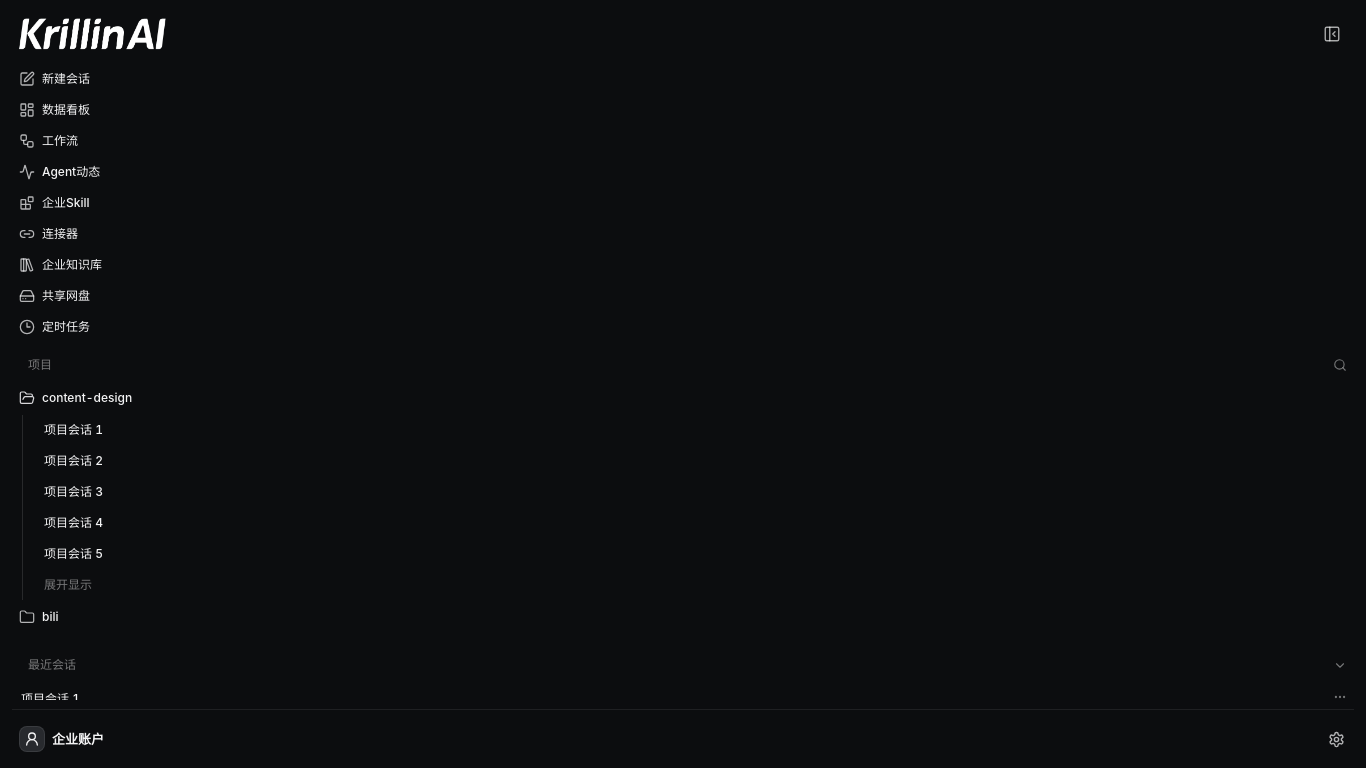
Test: ClaweeSidebar › shows at most five conversations per project until expanded
Expected: the number of links is 5, [44, 422, 103, 437]; [44, 453, 103, 468]; [44, 484, 103, 499]; [44, 515, 103, 530]; [44, 546, 103, 561]
Expected: the link "项目会话 5" is shown, [44, 546, 103, 561]
Click the button "展开显示". click: [68, 585]
box: [35, 570, 1354, 600]
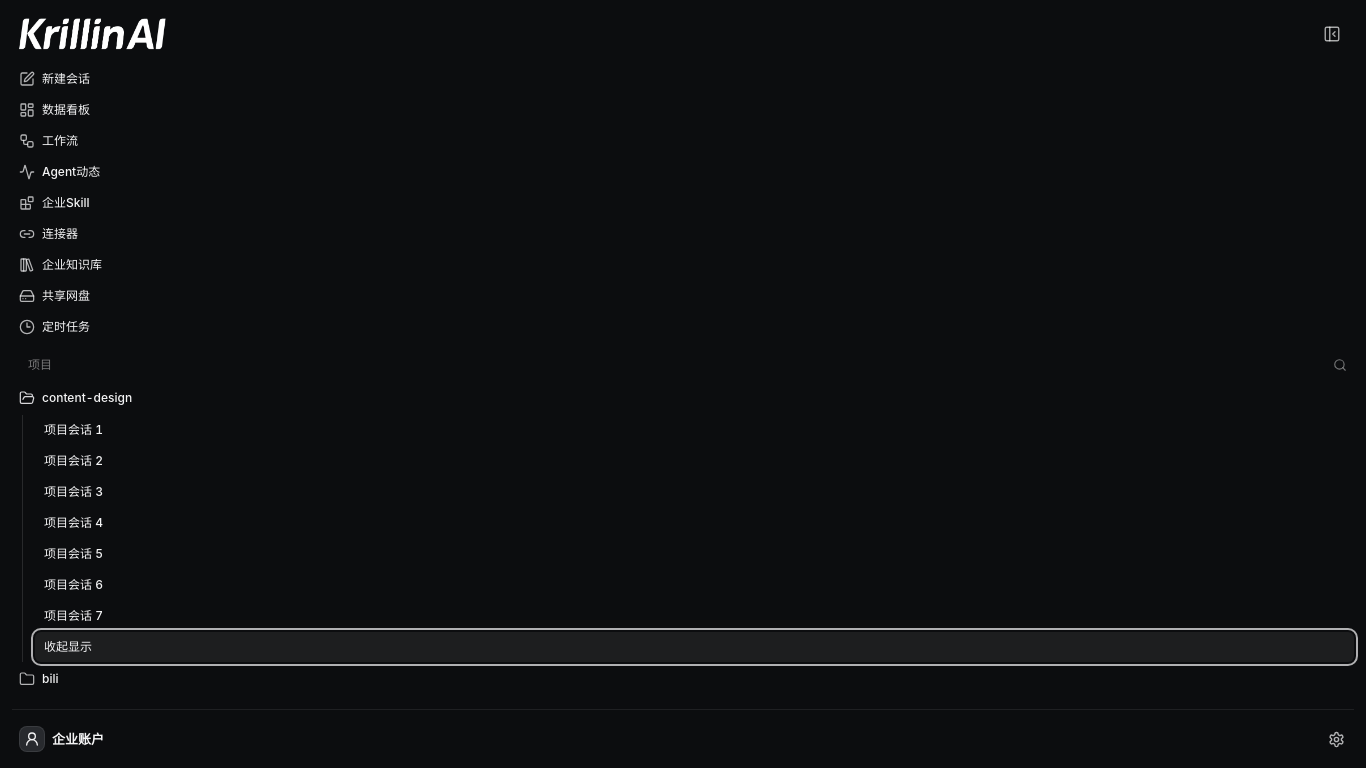
Now the number of links is 7
Now the button "收起显示" is expanded
Click the button "收起显示". click: [68, 647]
box: [35, 632, 1354, 662]
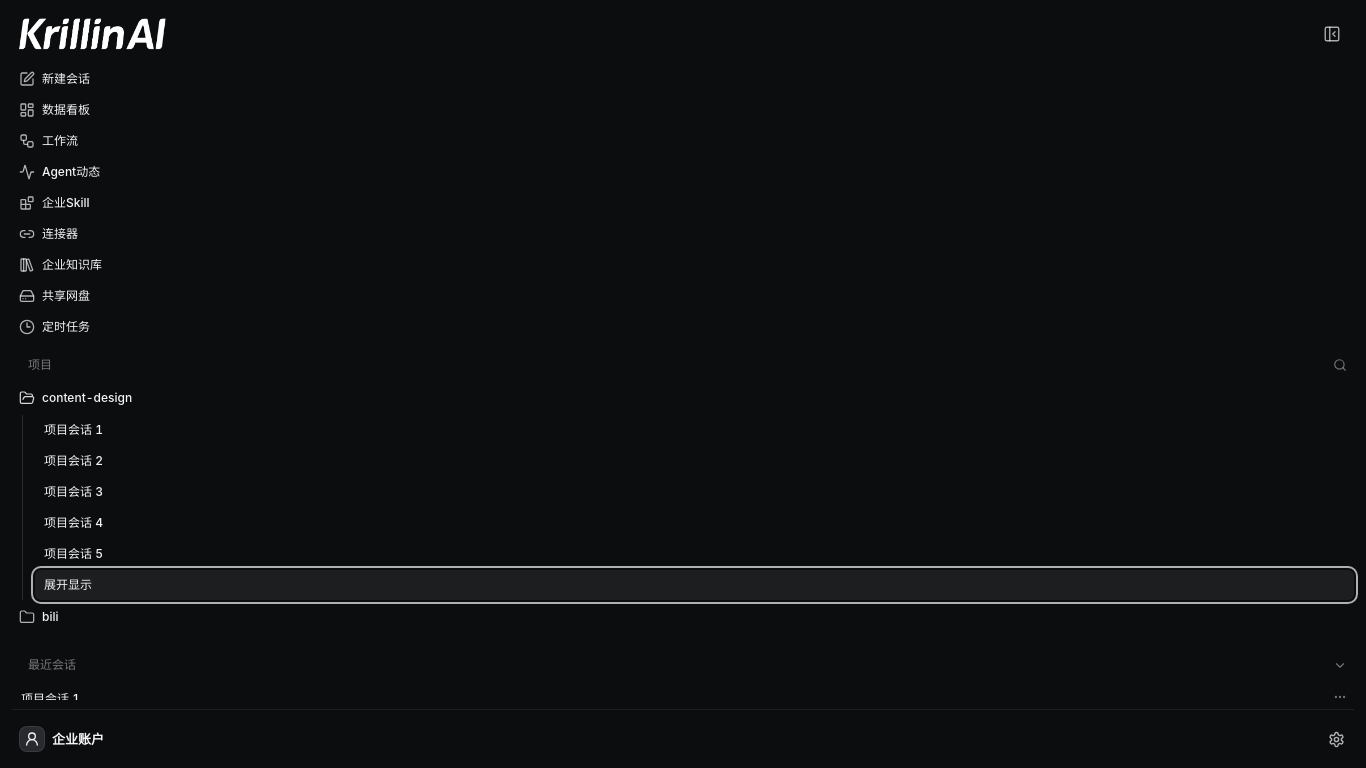
Now the number of links is 5, box [44, 422, 103, 437]; [44, 453, 103, 468]; [44, 484, 103, 499]; [44, 515, 103, 530]; [44, 546, 103, 561]
Now the button "展开显示" is collapsed, box [35, 570, 1354, 600]
